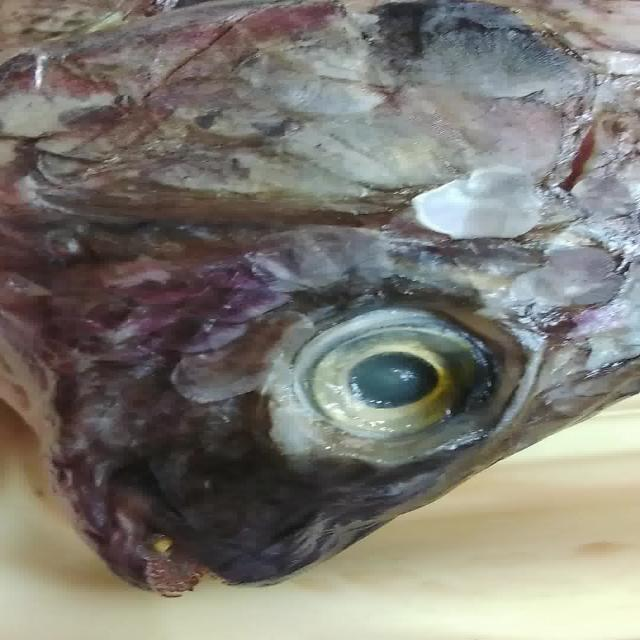Non-Fresh: (263, 283, 523, 481)
